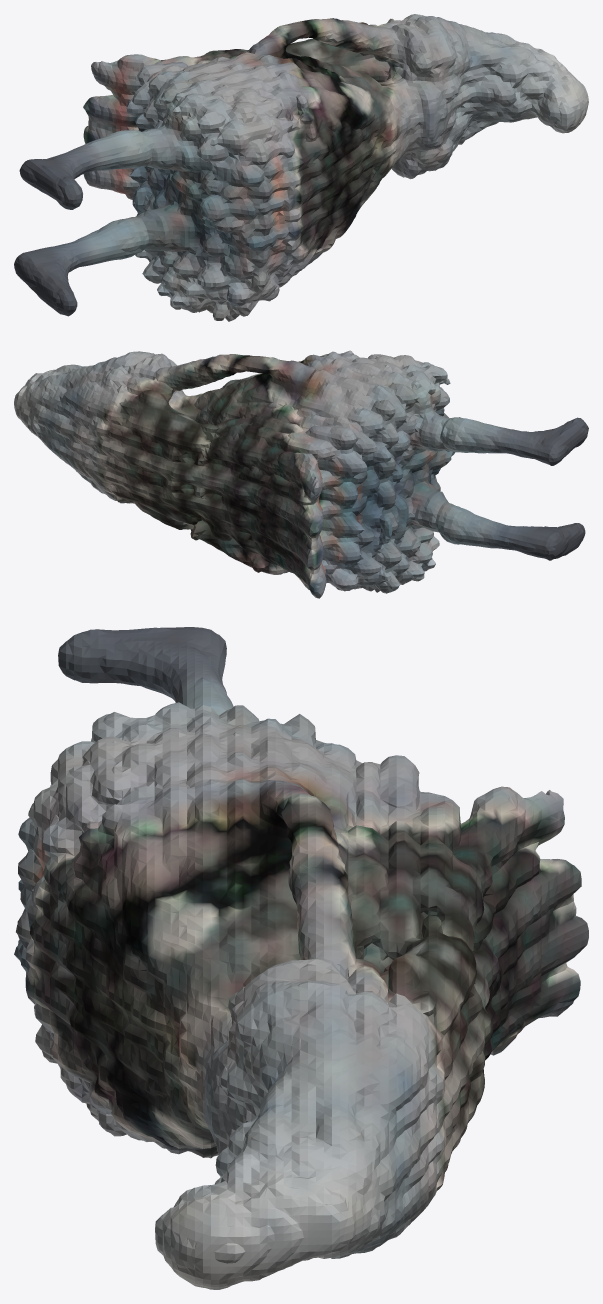
Rendered from chapeleiro_tripo_hp.glb.
3 views of the same model, one above another, from view 1: azimuth 30°, elevation 25°; view 2: azimuth 150°, elevation 25°; view 3: azimuth 270°, elevation 25° (orthographic). The views are drawn at different scales.
Visible parts, largest first — view 1: world; view 2: world; view 3: world.
Part boxes in pixels (x1,y1,x2,y2): world: (14,14,588,321); world: (14,350,588,598); world: (14,627,588,1289).
Size of the model in its own units: 1.01 by 0.407 by 0.4866.
